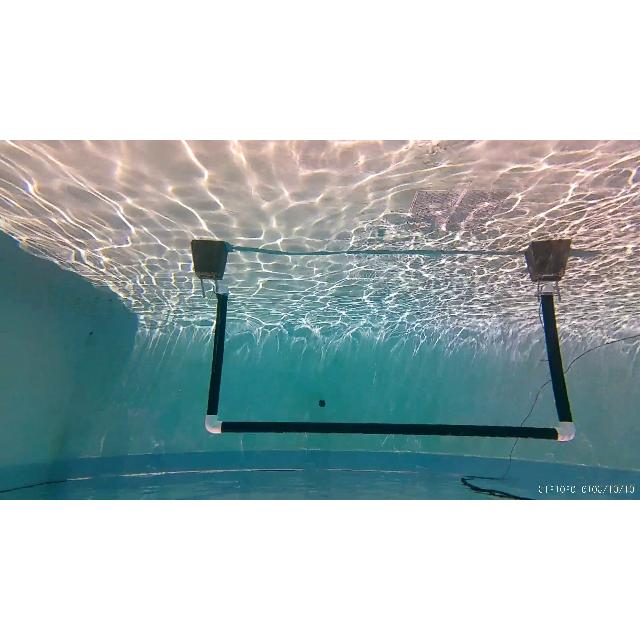prequal gate: (208, 278, 576, 442)
prequal gate leg l: (528, 280, 578, 444)
prequal gate leg r: (200, 276, 230, 444)
